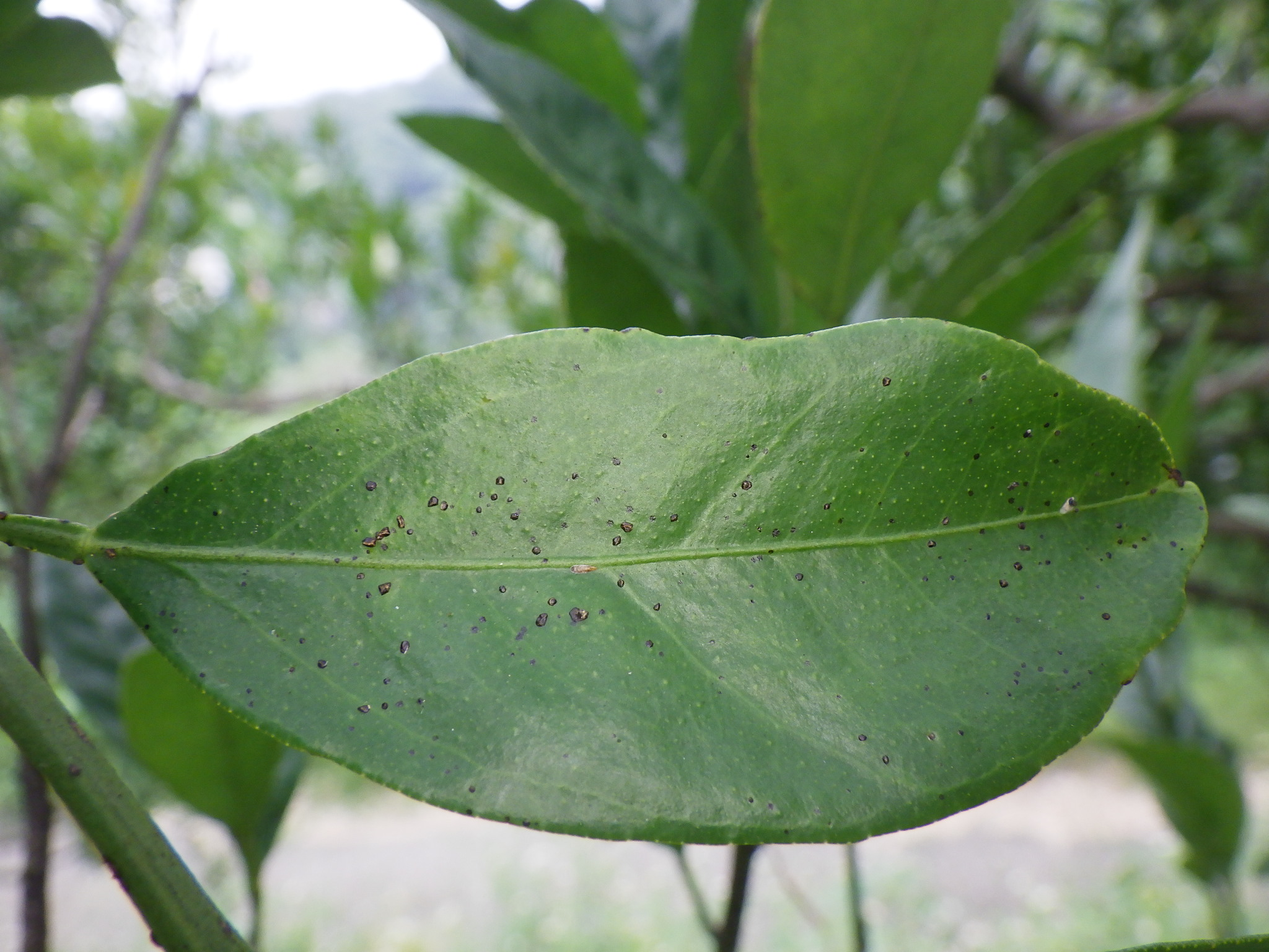Black_Spot: (0, 320, 1206, 842)
